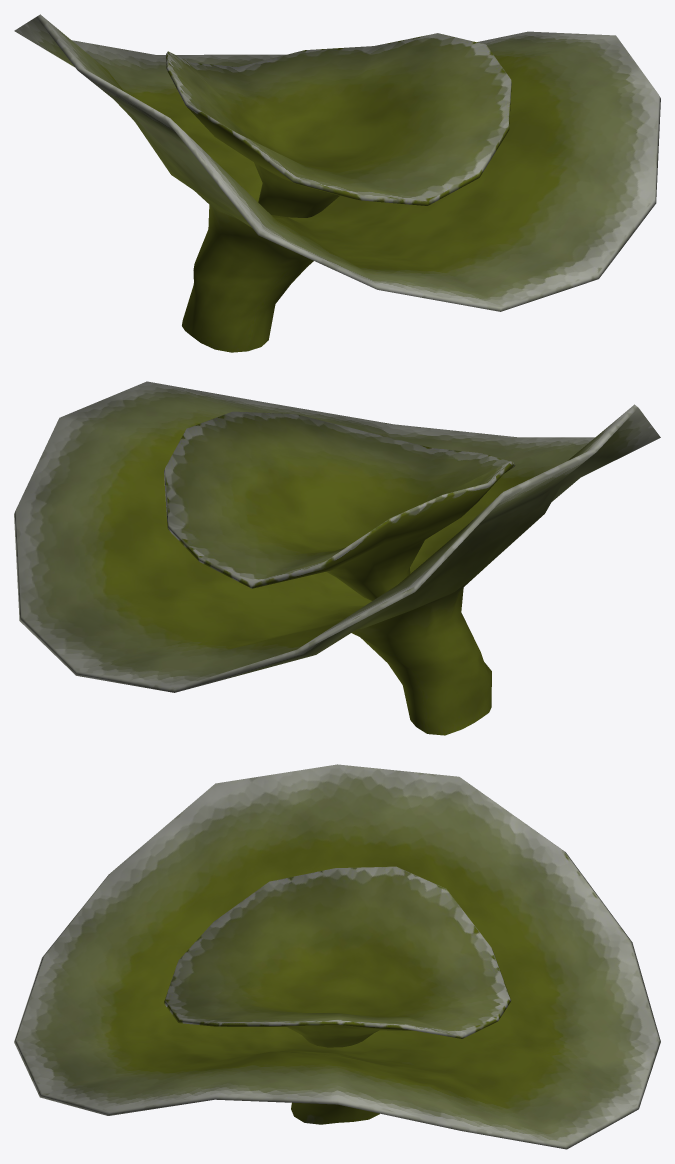
File: 30-Table.fbx
3 views of the same model, one above another, from view 1: azimuth 30°, elevation 25°; view 2: azimuth 150°, elevation 25°; view 3: azimuth 270°, elevation 25° (orthographic). The views are drawn at different scales.
Parts seen in each view (by area): view 1: 30-Table_LOD00; view 2: 30-Table_LOD00; view 3: 30-Table_LOD00.
Boxes of the visible parts, x1=… form: 30-Table_LOD00: x1=14, y1=14, x2=660, y2=352; 30-Table_LOD00: x1=14, y1=381, x2=660, y2=735; 30-Table_LOD00: x1=14, y1=764, x2=660, y2=1149.
Size of what is drawn, in the model's own units: 141 by 75.16 by 157.
